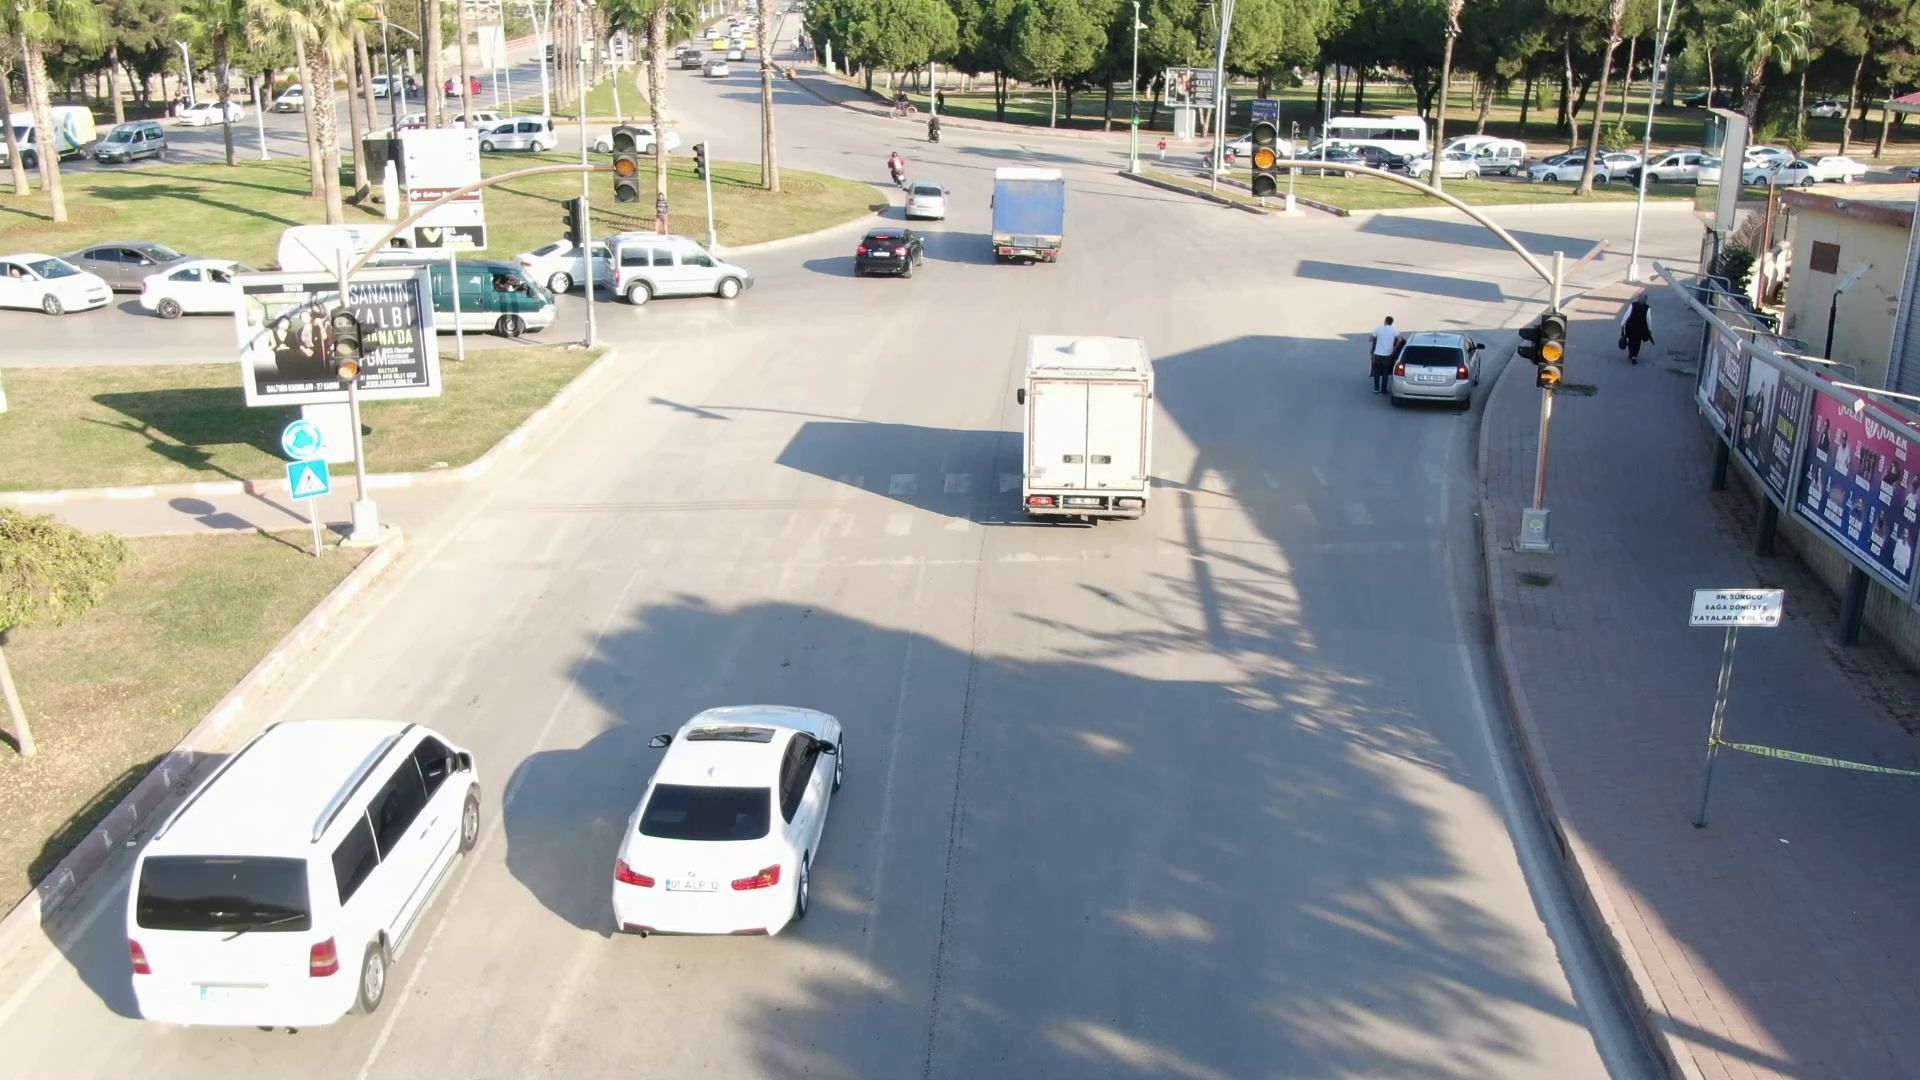car: (106, 689, 519, 1047), (590, 674, 862, 932), (600, 227, 759, 309), (980, 157, 1079, 271), (1, 248, 122, 323), (1389, 327, 1489, 409), (843, 213, 938, 282), (897, 181, 956, 218)
person: (1609, 286, 1657, 371), (1359, 309, 1396, 399)
